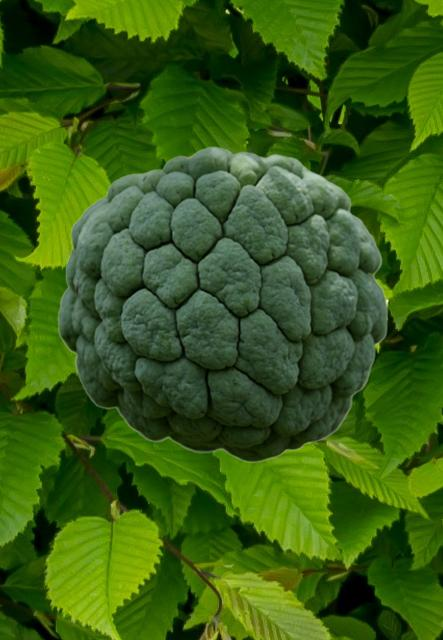atis: (57, 146, 387, 462)
